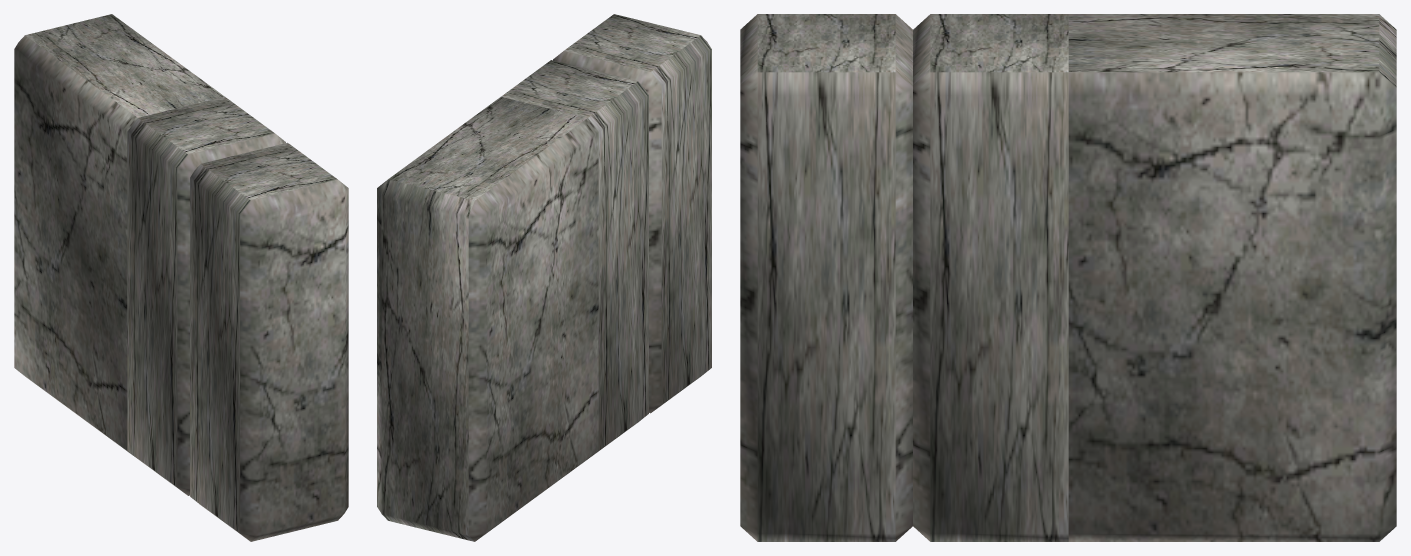
The model's file is BLOCK_CLUSTER03.fbx.
The picture shows the model from 3 angles, left to right: view 1: azimuth 30°, elevation 25°; view 2: azimuth 150°, elevation 25°; view 3: azimuth 270°, elevation 25°; orthographic projection. The views are drawn at different scales.
Parts seen in each view (by area): view 1: BLOCK_CLUSTER03; view 2: BLOCK_CLUSTER03; view 3: BLOCK_CLUSTER03.
Boxes of the visible parts, bbox=[...] form: BLOCK_CLUSTER03: bbox=[14, 14, 348, 541]; BLOCK_CLUSTER03: bbox=[377, 14, 711, 541]; BLOCK_CLUSTER03: bbox=[740, 14, 1396, 541].
Bounding box in the file's own units: 10009 × 30000 × 38008.
1 material, 1 textured.
